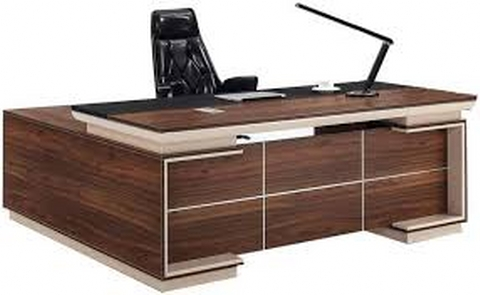kursi: (152, 8, 259, 97)
meja: (2, 80, 478, 292)
